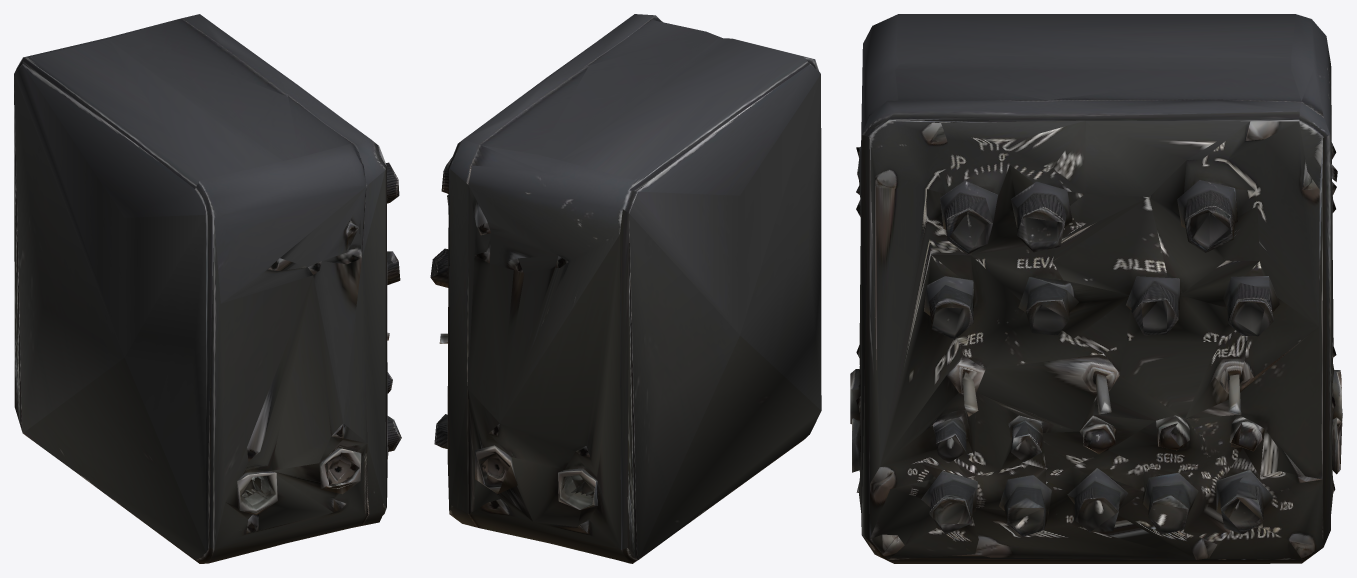
The picture shows the model from 3 angles, left to right: view 1: azimuth 30°, elevation 25°; view 2: azimuth 150°, elevation 25°; view 3: azimuth 270°, elevation 25°; orthographic projection. The views are drawn at different scales.
Visible parts, largest first — view 1: tripo_node_8e8b6a56-554f-4d98-bc96-5124461b9f3a; view 2: tripo_node_8e8b6a56-554f-4d98-bc96-5124461b9f3a; view 3: tripo_node_8e8b6a56-554f-4d98-bc96-5124461b9f3a.
Boxes of the visible parts, x1=… form: tripo_node_8e8b6a56-554f-4d98-bc96-5124461b9f3a: x1=14, y1=14, x2=401, y2=563; tripo_node_8e8b6a56-554f-4d98-bc96-5124461b9f3a: x1=430, y1=14, x2=821, y2=563; tripo_node_8e8b6a56-554f-4d98-bc96-5124461b9f3a: x1=850, y1=14, x2=1342, y2=563.
Bounding box in the file's own units: 0.6131 × 0.9991 × 0.9797.
1 material, 1 textured.
